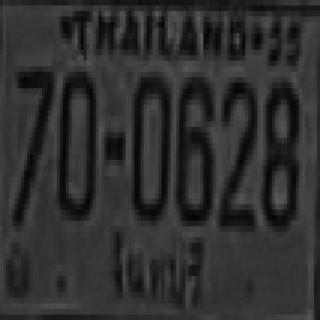N00: (57, 66, 96, 215), (130, 72, 169, 221)
N02: (220, 77, 256, 226)
N06: (175, 72, 211, 221)
N07: (13, 66, 52, 221)
N08: (262, 77, 298, 226)
P10: (95, 233, 213, 312)
